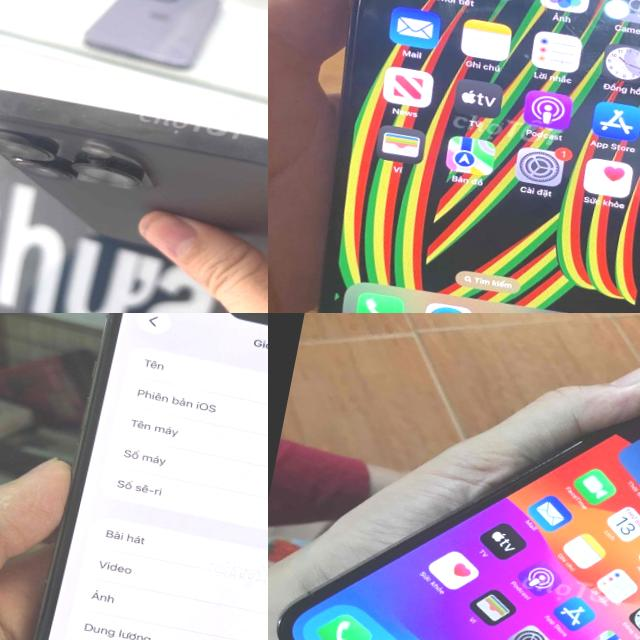physical_damage: (341, 0, 640, 89)
